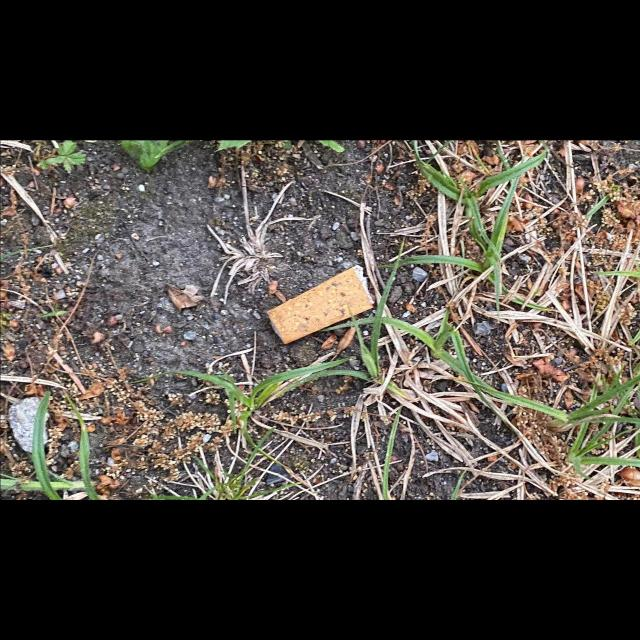cigarette: (265, 263, 376, 346)
